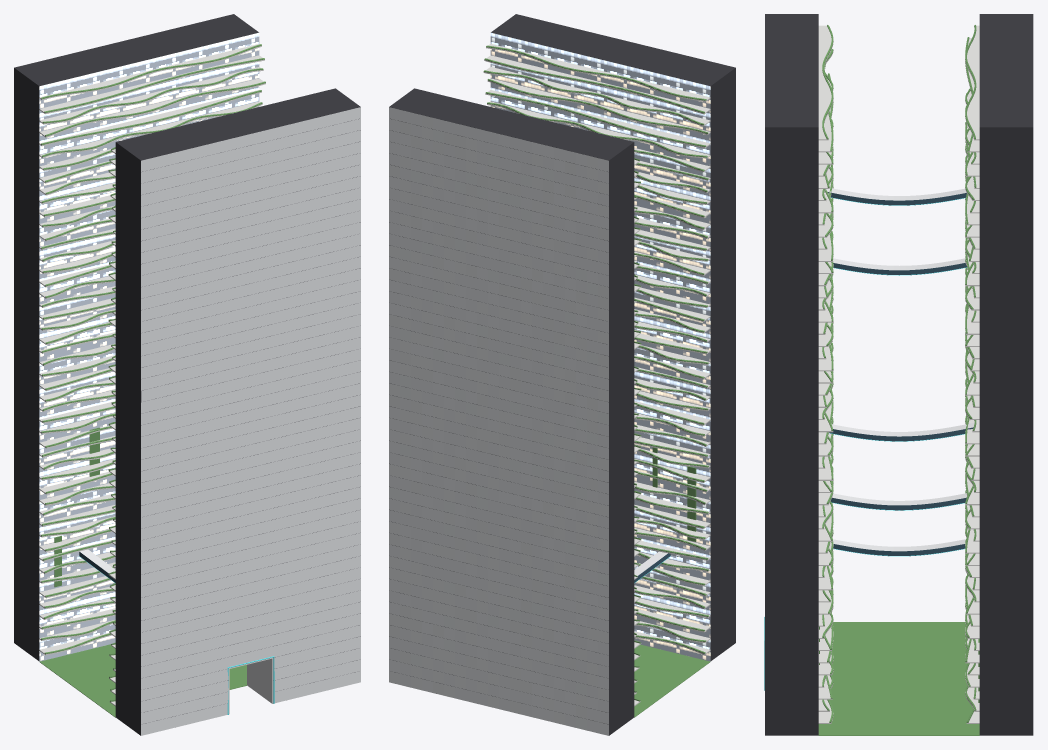
File: SM_TheLine_Portal.fbx
3 views of the same model, side by side, from view 1: azimuth 30°, elevation 25°; view 2: azimuth 150°, elevation 25°; view 3: azimuth 270°, elevation 25° (orthographic). The views are drawn at different scales.
Parts seen in each view (by area): view 1: SM_TheLine_Portal; view 2: SM_TheLine_Portal; view 3: SM_TheLine_Portal.
Part boxes in pixels (box(x1,y1,x2,y2)): SM_TheLine_Portal: box(14, 14, 360, 735); SM_TheLine_Portal: box(389, 14, 735, 735); SM_TheLine_Portal: box(764, 14, 1033, 735).
Bounding box in the file's own units: 20007 × 50040 × 20074.
